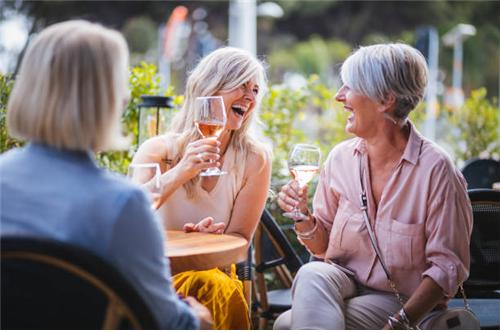alcohol: (283, 142, 324, 222), (189, 97, 230, 175)
